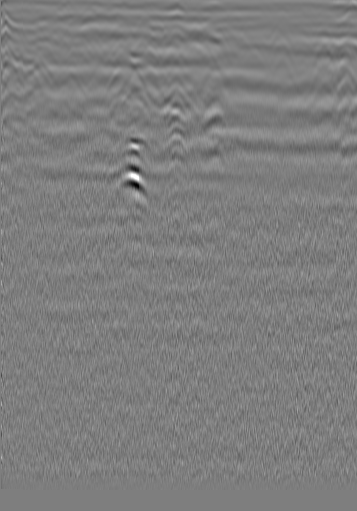가스: (109, 159, 147, 192)
상수: (317, 24, 337, 44)
오수: (31, 20, 51, 40)
우수: (168, 17, 188, 37)
